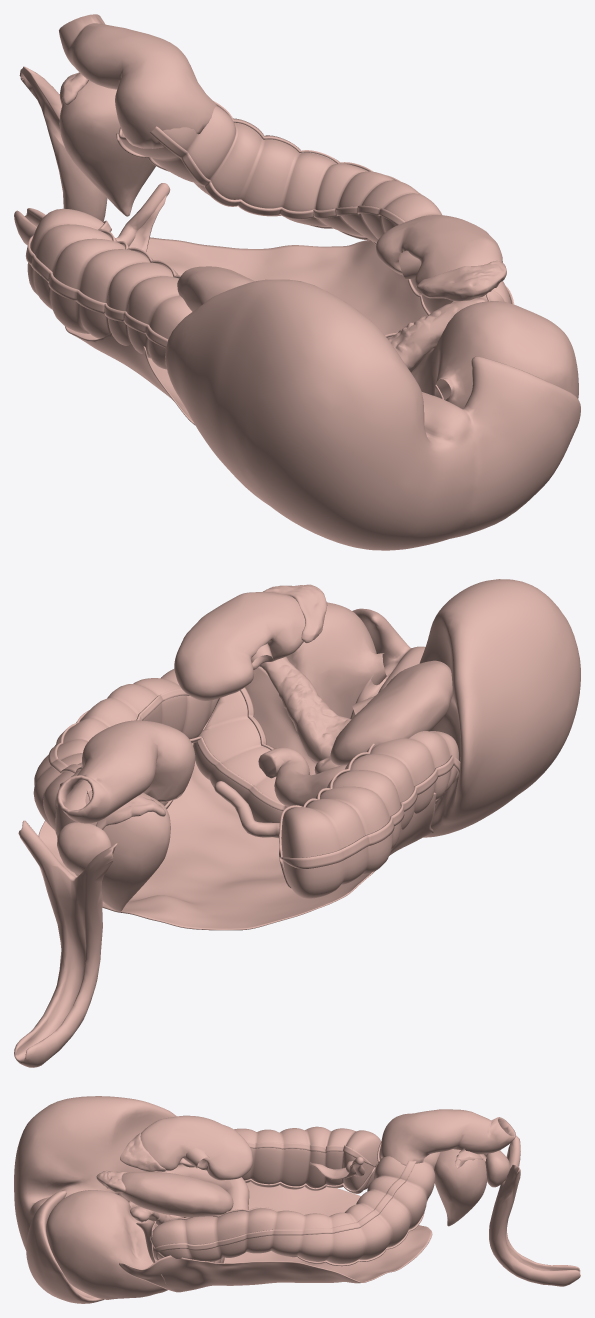
File: abdomen__organs.d375fb0d5c.glb
3 renders of one model, top to bottom at view 1: azimuth 30°, elevation 25°; view 2: azimuth 150°, elevation 25°; view 3: azimuth 270°, elevation 25°, orthographic. The views are drawn at different scales.
Visible parts, largest first — view 1: Liver, Descending colon, Ascending colon, Greater omentum, Sigmoid colon, Stomach, Urinary bladder, Kidney.l, Corpus cavernosum of penis, Free taenia, Mesocolic taenia, Suprarenal gland.l (+3 smaller); view 2: Liver, Greater omentum, Ascending colon, Corpus cavernosum of penis, Sigmoid colon, Kidney.l, Descending colon, Kidney.r, Stomach, Transverse colon, Urinary bladder, Pancreas (+9 smaller); view 3: Liver, Descending colon, Greater omentum, Stomach, Ascending colon, Sigmoid colon, Kidney.r, Kidney.l, Corpus cavernosum of penis, Urinary bladder, Mesocolic taenia, Duodenum (+9 smaller).
Part boxes in pixels (box(x1,y1,x2,y2)): Liver: box(165, 279, 580, 550); Descending colon: box(118, 106, 511, 313); Ascending colon: box(27, 208, 191, 369); Greater omentum: box(65, 237, 427, 424); Sigmoid colon: box(59, 14, 216, 148); Stomach: box(411, 301, 578, 408); Urinary bladder: box(59, 80, 155, 216); Kidney.l: box(376, 215, 502, 287); Corpus cavernosum of penis: box(14, 66, 107, 244); Free taenia: box(98, 126, 456, 303); Mesocolic taenia: box(25, 101, 514, 348); Suprarenal gland.l: box(416, 260, 506, 301); Liver: box(352, 579, 580, 837); Greater omentum: box(38, 743, 436, 930); Ascending colon: box(281, 731, 458, 898); Corpus cavernosum of penis: box(14, 820, 117, 1067); Sigmoid colon: box(57, 720, 195, 823); Kidney.l: box(174, 592, 305, 700); Descending colon: box(33, 669, 219, 831); Kidney.r: box(330, 660, 452, 765); Stomach: box(286, 602, 386, 718); Transverse colon: box(193, 691, 439, 823); Urinary bladder: box(55, 790, 170, 911); Pancreas: box(259, 656, 351, 774); Liver: box(14, 1096, 176, 1303); Descending colon: box(150, 1146, 440, 1263); Greater omentum: box(119, 1182, 432, 1292); Stomach: box(46, 1190, 167, 1299); Ascending colon: box(178, 1126, 381, 1190); Sigmoid colon: box(380, 1109, 515, 1165); Kidney.r: box(140, 1115, 252, 1180); Kidney.l: box(121, 1172, 233, 1217); Corpus cavernosum of penis: box(489, 1135, 580, 1286); Urinary bladder: box(434, 1149, 486, 1226); Mesocolic taenia: box(153, 1161, 416, 1260); Duodenum: box(157, 1164, 249, 1210).
Bounding box in the file's own units: 222 × 167 × 496.
